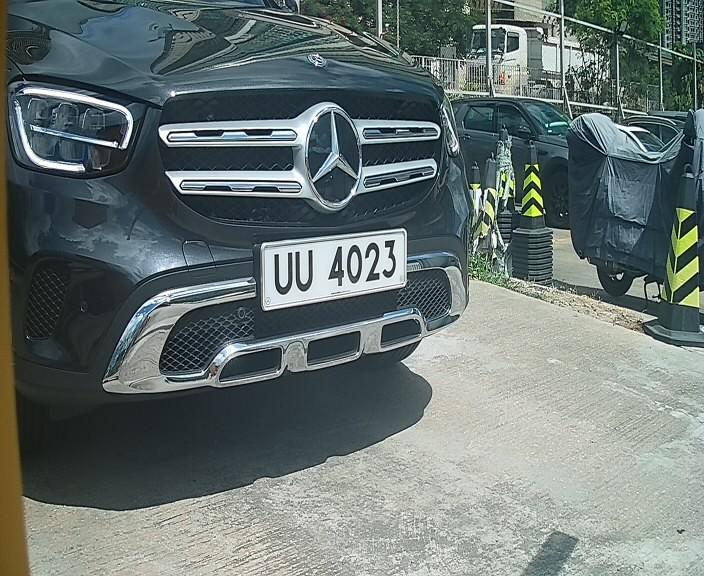License Plate: (255, 224, 409, 319)
